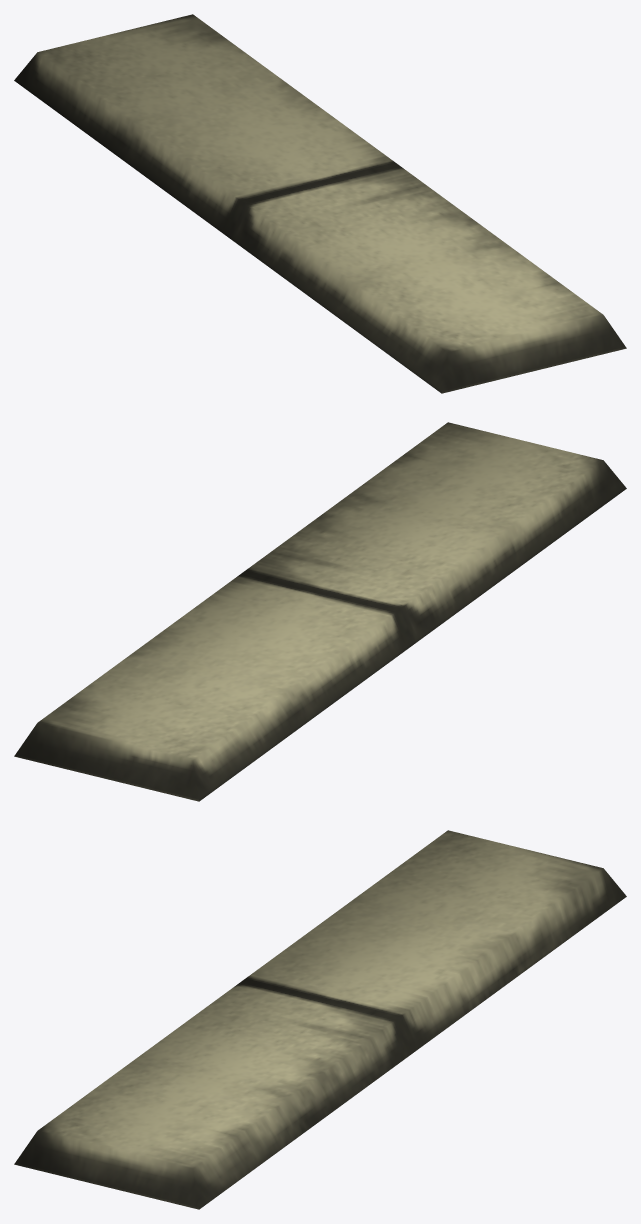
File: 4x1ledge1.FBX
3 views of the same model, one above another, from view 1: azimuth 30°, elevation 25°; view 2: azimuth 150°, elevation 25°; view 3: azimuth 330°, elevation 25° (orthographic).
Visible parts, largest first — view 1: Object008; view 2: Object008; view 3: Object008.
Boxes of the visible parts, left/top/right/bottom form: Object008: left=14, top=14, right=626, bottom=393; Object008: left=14, top=422, right=626, bottom=801; Object008: left=14, top=830, right=626, bottom=1209.
Size of the model in its own units: 6.25 by 1 by 25.
